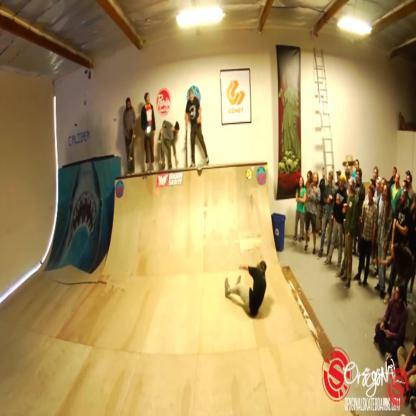Fall_Down: (222, 258, 269, 320)
